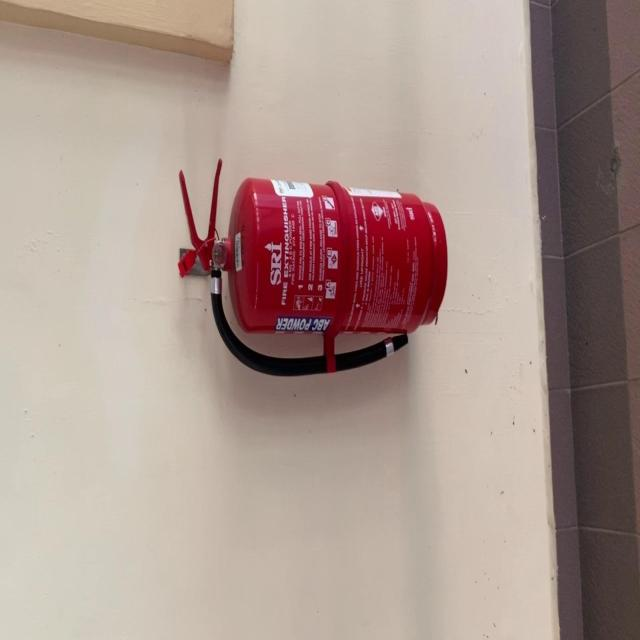fire_extinguisher: (173, 156, 451, 380)
